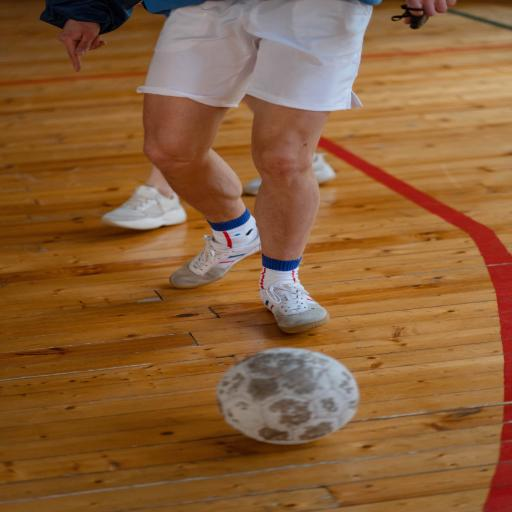shoe: (170, 236, 260, 288), (101, 186, 186, 229), (260, 284, 329, 333), (313, 153, 335, 184)
